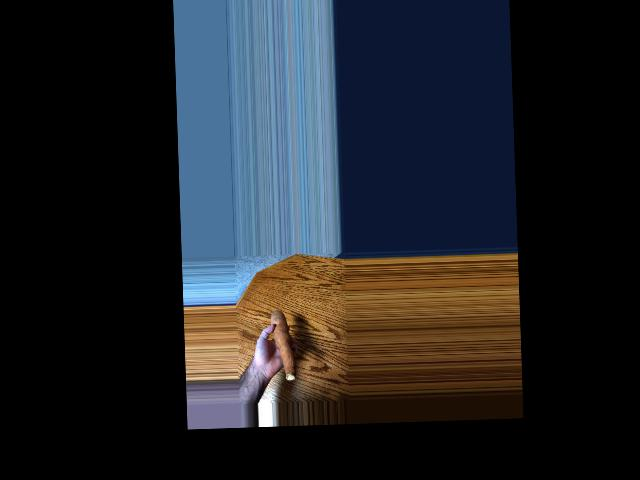sweet_potato: (272, 305, 296, 378)
